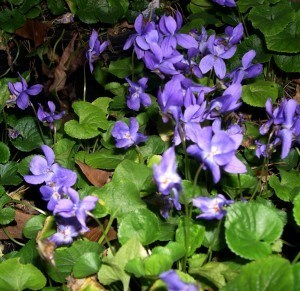violet: (130, 17, 300, 211), (27, 153, 99, 243), (11, 74, 42, 111), (85, 30, 106, 78), (33, 106, 64, 126)
